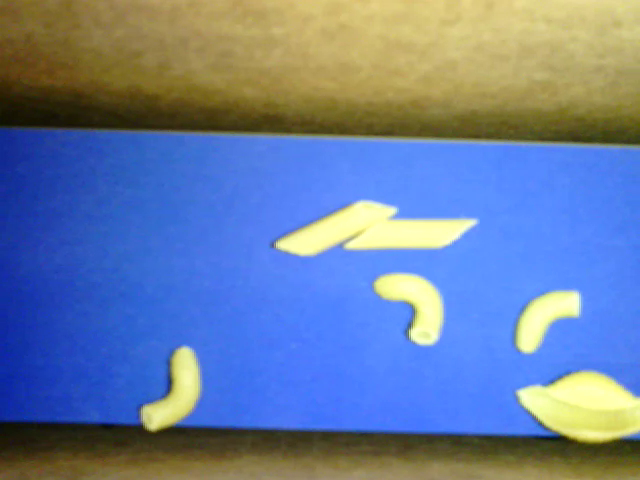elbow: (139, 345, 202, 430), (373, 272, 445, 344), (514, 289, 581, 355)
penne: (272, 200, 399, 258), (342, 217, 477, 249)
shell: (516, 370, 639, 442)
